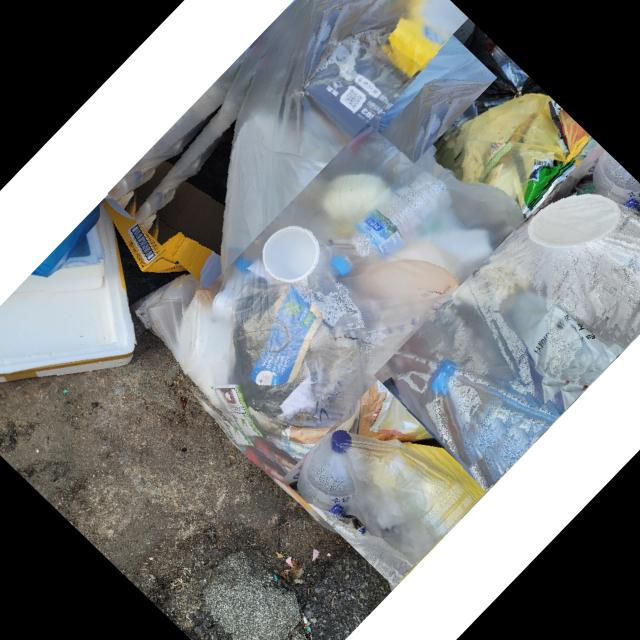other_trashbag: (135, 126, 522, 523), (373, 195, 640, 473), (218, 0, 464, 277), (299, 431, 509, 563), (435, 95, 598, 219), (351, 16, 495, 134)
